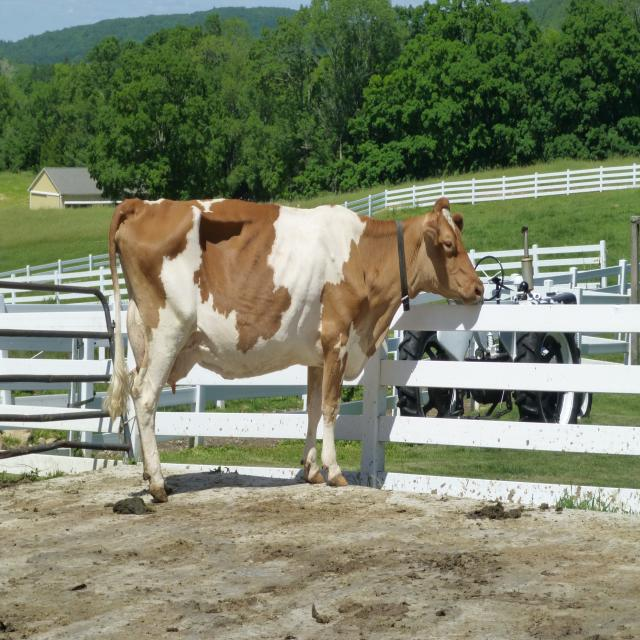cow: (106, 198, 402, 502), (401, 198, 484, 303)
